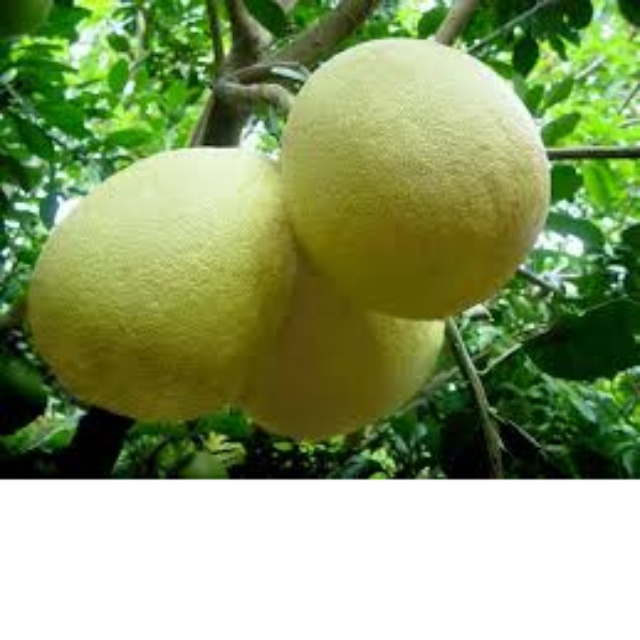buoi: (280, 34, 555, 324), (25, 144, 303, 429)
